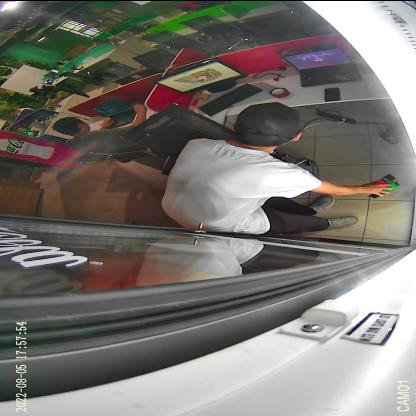green: (368, 180, 400, 198)
red: (370, 173, 396, 189)
